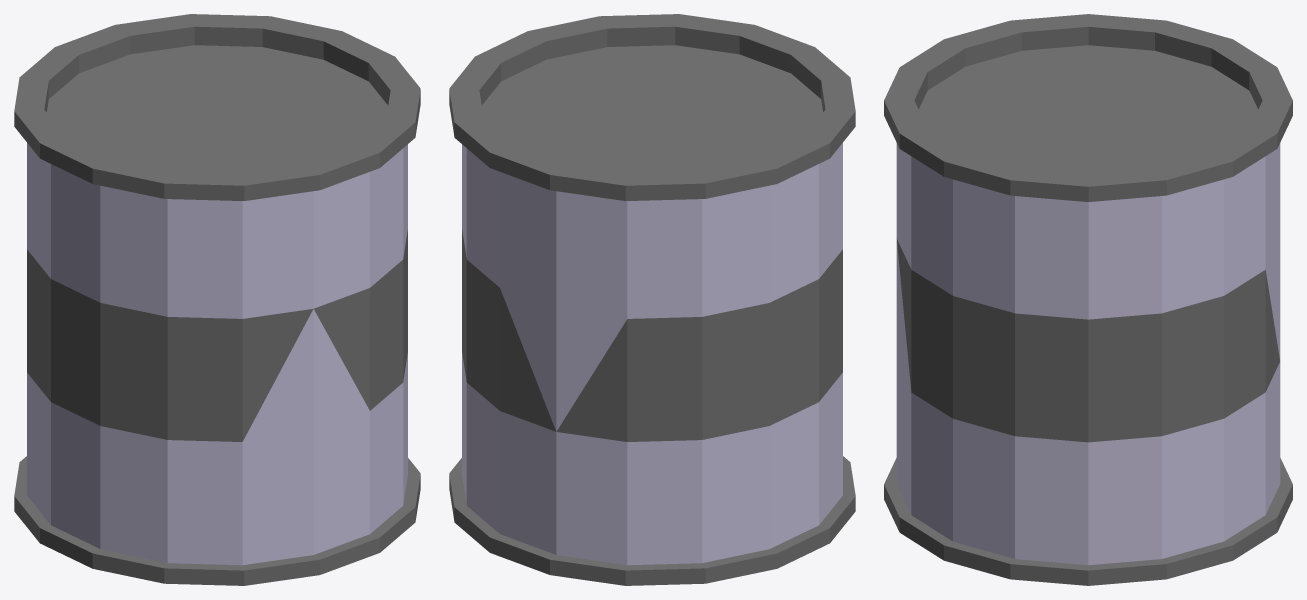
File: misc5.fbx
The picture shows the model from 3 angles, left to right: view 1: azimuth 30°, elevation 25°; view 2: azimuth 150°, elevation 25°; view 3: azimuth 270°, elevation 25°; orthographic projection.
Parts seen in each view (by area): view 1: Cylinder; view 2: Cylinder; view 3: Cylinder.
Boxes of the visible parts, box(x1,y1,x2,y2) form: Cylinder: box(14, 14, 420, 585); Cylinder: box(449, 14, 855, 585); Cylinder: box(884, 14, 1292, 585).
Size of the model in its own units: 213 by 230 by 213.
